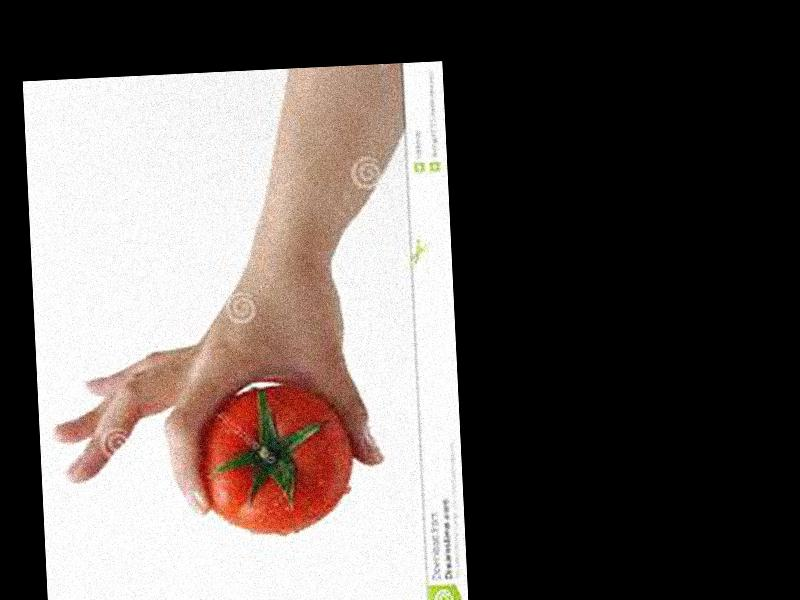Tomato: (195, 382, 355, 538)
